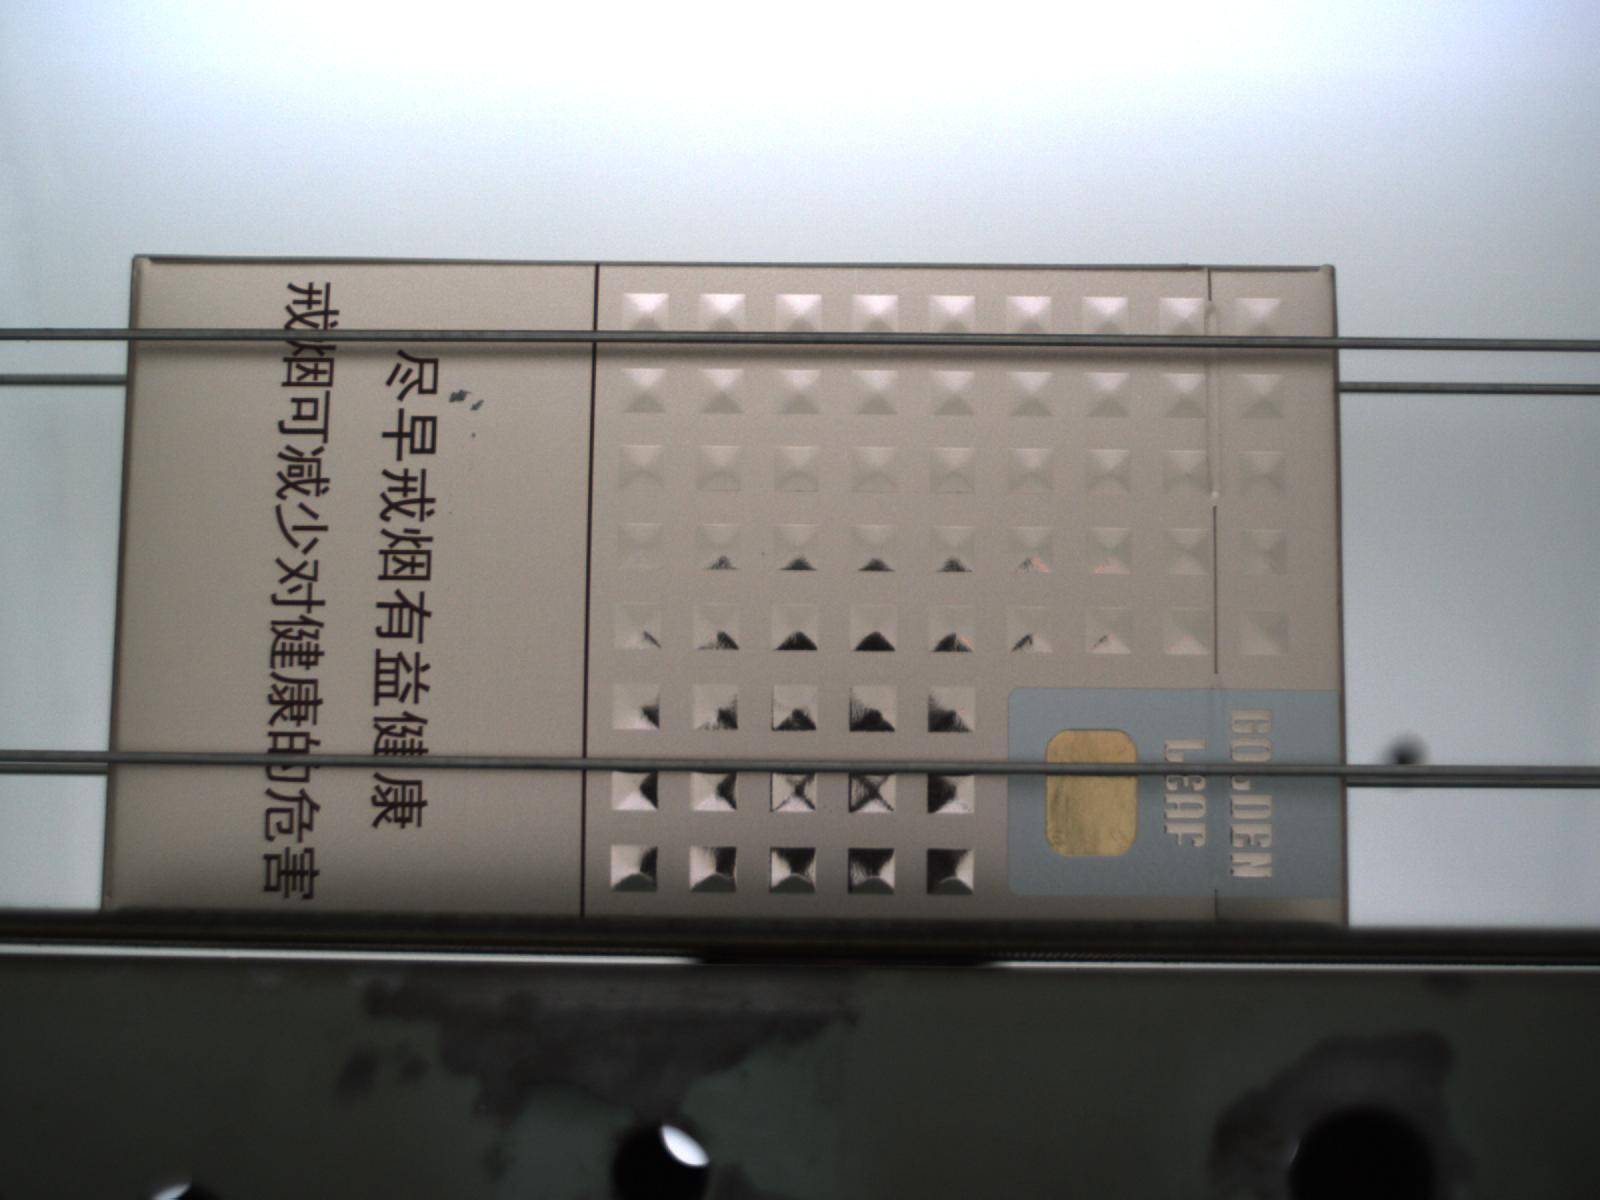dirtyOil: (447, 387, 472, 405), (470, 398, 485, 412)
dirtySpot: (470, 431, 479, 440), (760, 551, 769, 558)
